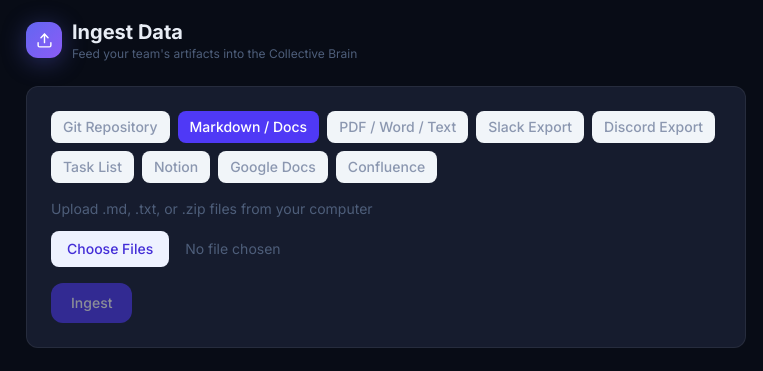
Test case: IngestPage › shows 'Ingesting...' text while loading
Step 1. Click the button "Git Repository" → {"x": 110, "y": 127}, box [51,111,170,143]
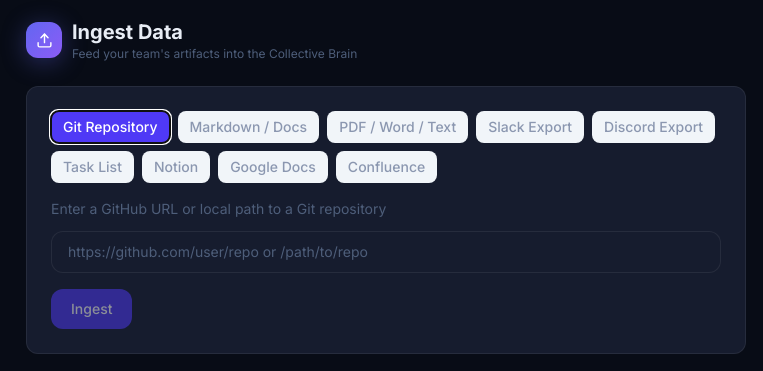
Step 2. Type "https://github.com/test/repo" into the field with placeholder "https://github.com/user/repo or /path/to/repo" → {"x": 386, "y": 252}, box [51,231,721,273]
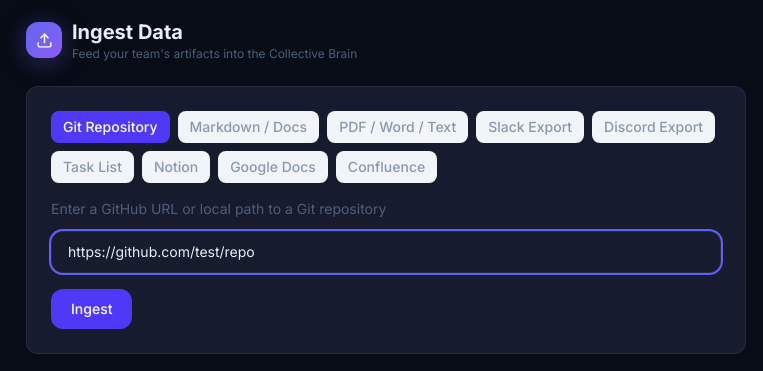
Step 3. Click the button "Ingest" → {"x": 92, "y": 309}, box [51,289,132,329]
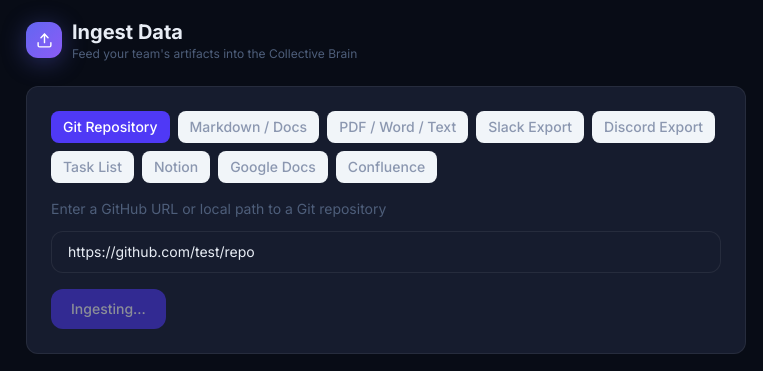
Result: the button "Ingesting..." is shown at [51,289,166,329]
